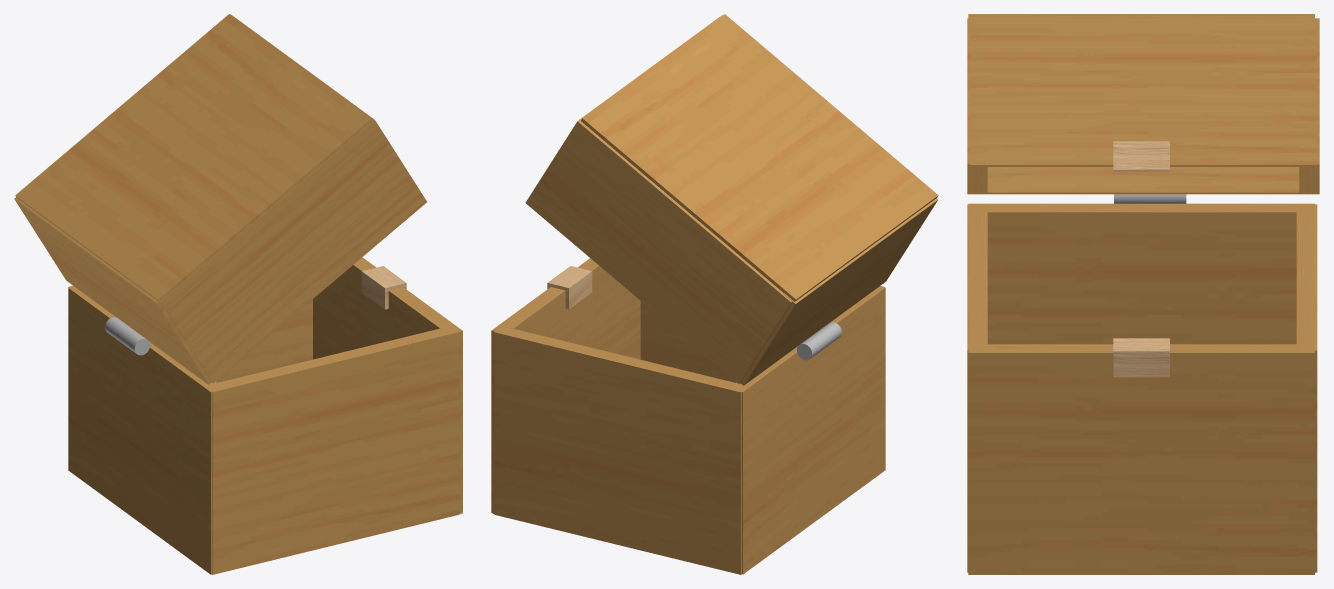
Rendered from wood_box.fbx.
3 views of the same model, side by side, from view 1: azimuth 30°, elevation 25°; view 2: azimuth 150°, elevation 25°; view 3: azimuth 270°, elevation 25° (orthographic). The views are drawn at different scales.
Visible parts, largest first — view 1: polySurface7, polySurface9, polySurface12, polySurface11, polySurface3, polySurface6, polySurface4, polySurface8, polySurface13; view 2: polySurface7, polySurface4, polySurface2, polySurface11, polySurface3, polySurface6, polySurface9, polySurface8, polySurface13; view 3: polySurface3, polySurface10, polySurface11, polySurface6, polySurface4, polySurface9, polySurface8, polySurface7, polySurface1, polySurface12, polySurface2, polySurface13.
Part boxes in pixels (<box>): polySurface7: <box>15,14,372,310</box>; polySurface9: <box>204,326,459,574</box>; polySurface12: <box>161,114,426,383</box>; polySurface11: <box>68,287,217,574</box>; polySurface3: <box>313,257,462,513</box>; polySurface6: <box>14,197,211,384</box>; polySurface4: <box>68,286,312,382</box>; polySurface8: <box>361,266,406,309</box>; polySurface13: <box>105,317,150,355</box>; polySurface7: <box>581,14,938,301</box>; polySurface4: <box>494,326,748,574</box>; polySurface2: <box>525,115,792,383</box>; polySurface11: <box>729,287,885,574</box>; polySurface3: <box>491,258,640,513</box>; polySurface6: <box>740,198,937,385</box>; polySurface9: <box>640,286,884,382</box>; polySurface8: <box>547,266,592,309</box>; polySurface13: <box>796,322,841,360</box>; polySurface3: <box>968,344,1314,574</box>; polySurface10: <box>970,19,1316,166</box>; polySurface11: <box>968,203,1314,344</box>; polySurface6: <box>987,167,1299,194</box>; polySurface4: <box>1296,204,1317,572</box>; polySurface9: <box>967,204,987,572</box>; polySurface8: <box>1113,338,1169,377</box>; polySurface7: <box>968,14,1314,19</box>; polySurface1: <box>1113,141,1169,172</box>; polySurface12: <box>967,18,987,194</box>; polySurface2: <box>1299,18,1319,194</box>; polySurface13: <box>1114,194,1186,203</box>.
Bounding box in the file's own units: 5.17 × 6.67 × 4.2.
